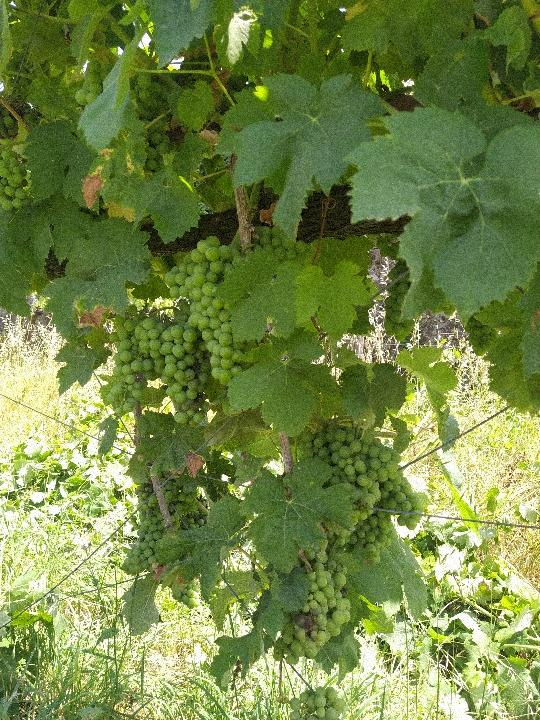grape: (163, 234, 256, 388), (297, 424, 400, 549)
